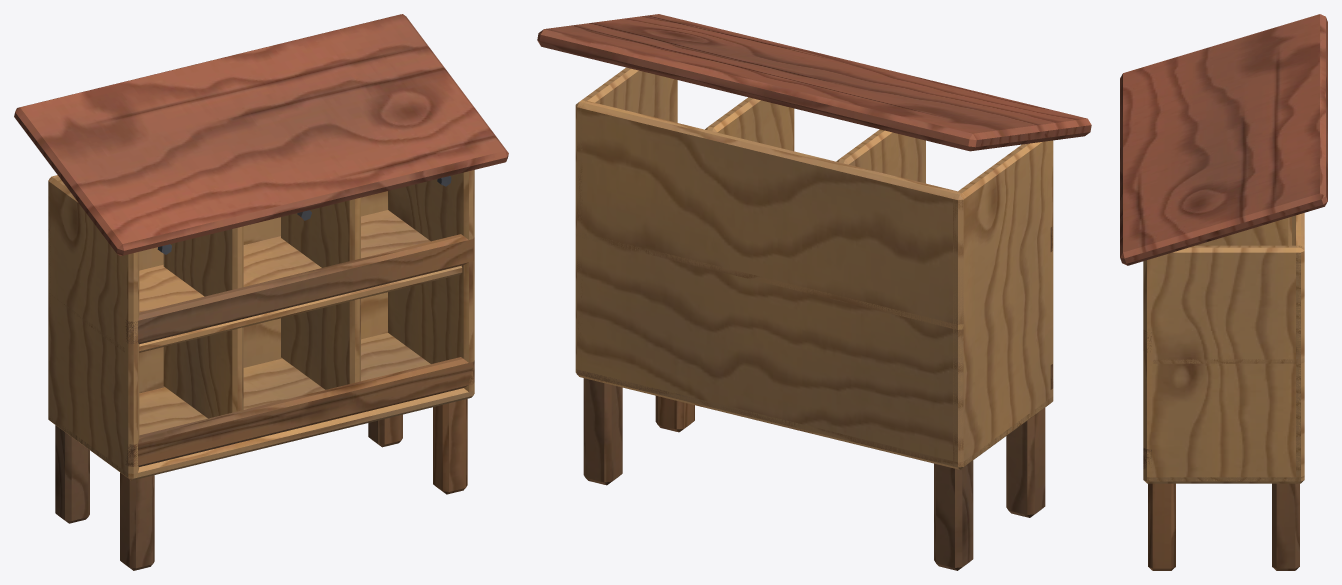
Rendered from folluk.glb.
3 renders of one model, left to right at view 1: azimuth 30°, elevation 25°; view 2: azimuth 150°, elevation 25°; view 3: azimuth 270°, elevation 25°, orthographic. The views are drawn at different scales.
Visible parts, largest first — view 1: folluk; view 2: folluk; view 3: folluk.
Part boxes in pixels (bbox=[...]): folluk: bbox=[14, 14, 508, 570]; folluk: bbox=[537, 14, 1091, 570]; folluk: bbox=[1120, 14, 1327, 570].
Bounding box in the file's own units: 1.4 × 1.39 × 0.6708.
1 material, 1 textured.
